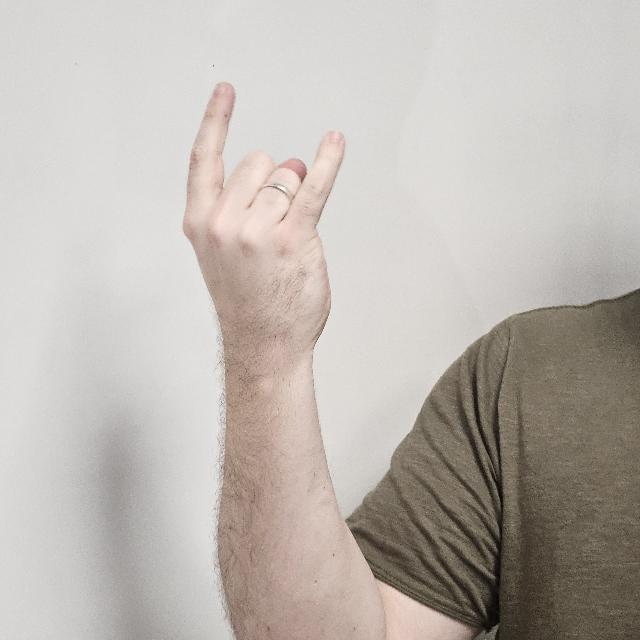L: (183, 80, 355, 368)
